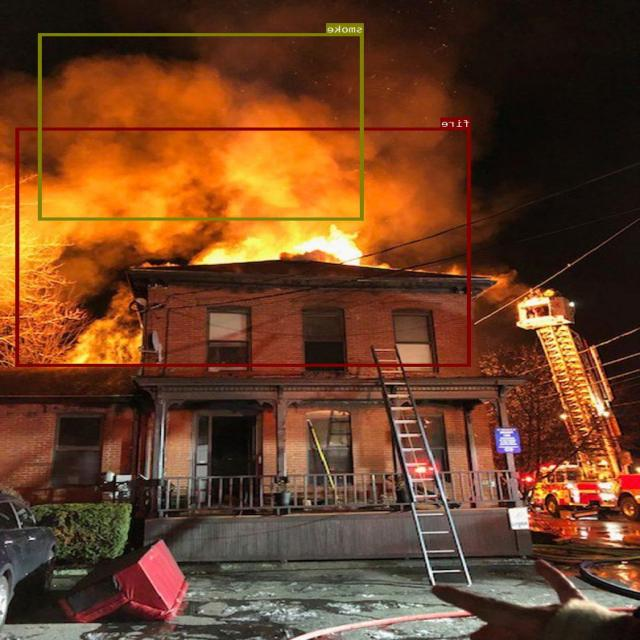fire: (17, 127, 472, 366)
smoke: (39, 32, 365, 220)
